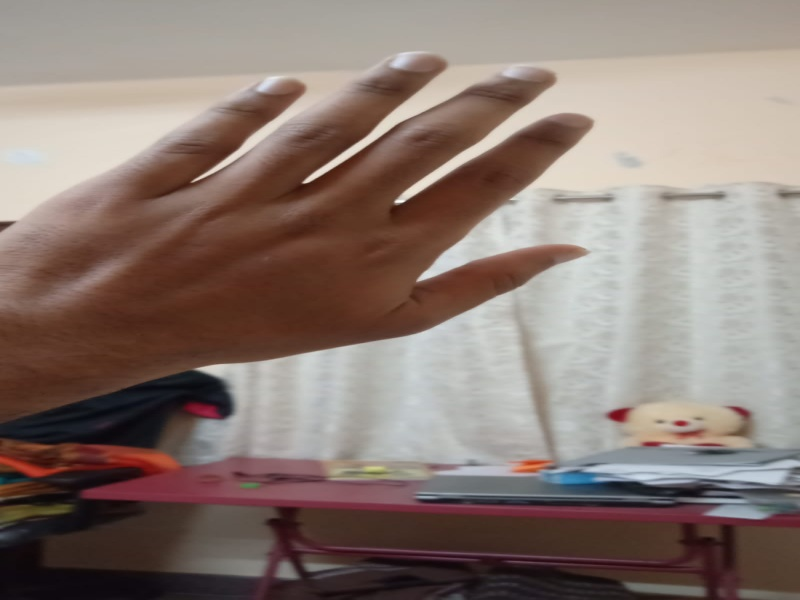Hand: (1, 43, 608, 399)
